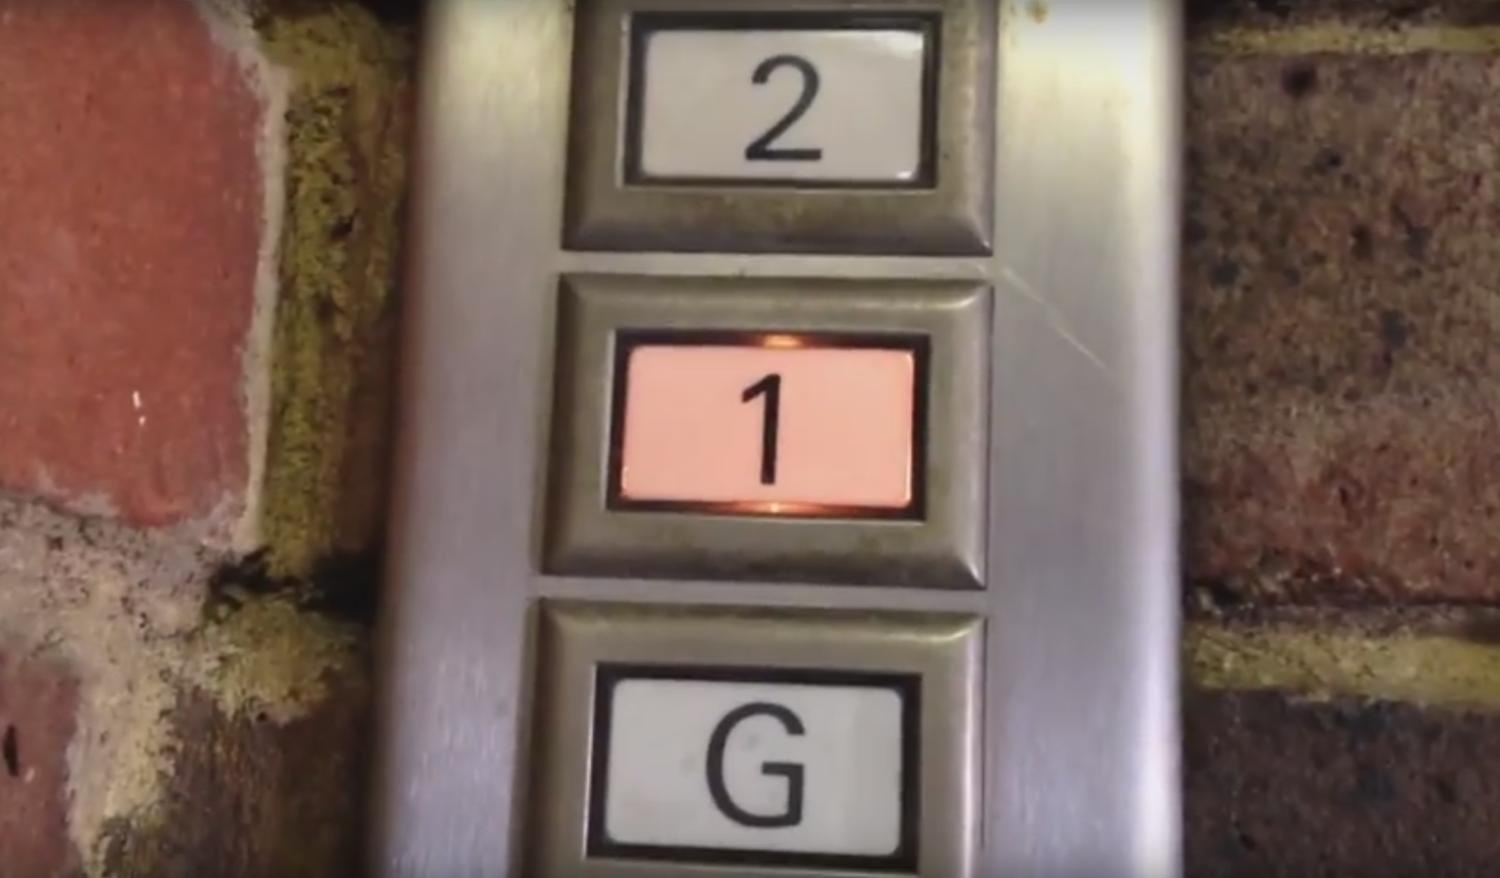1: (538, 274, 991, 590)
2: (556, 1, 995, 258)
G: (509, 600, 983, 878)
